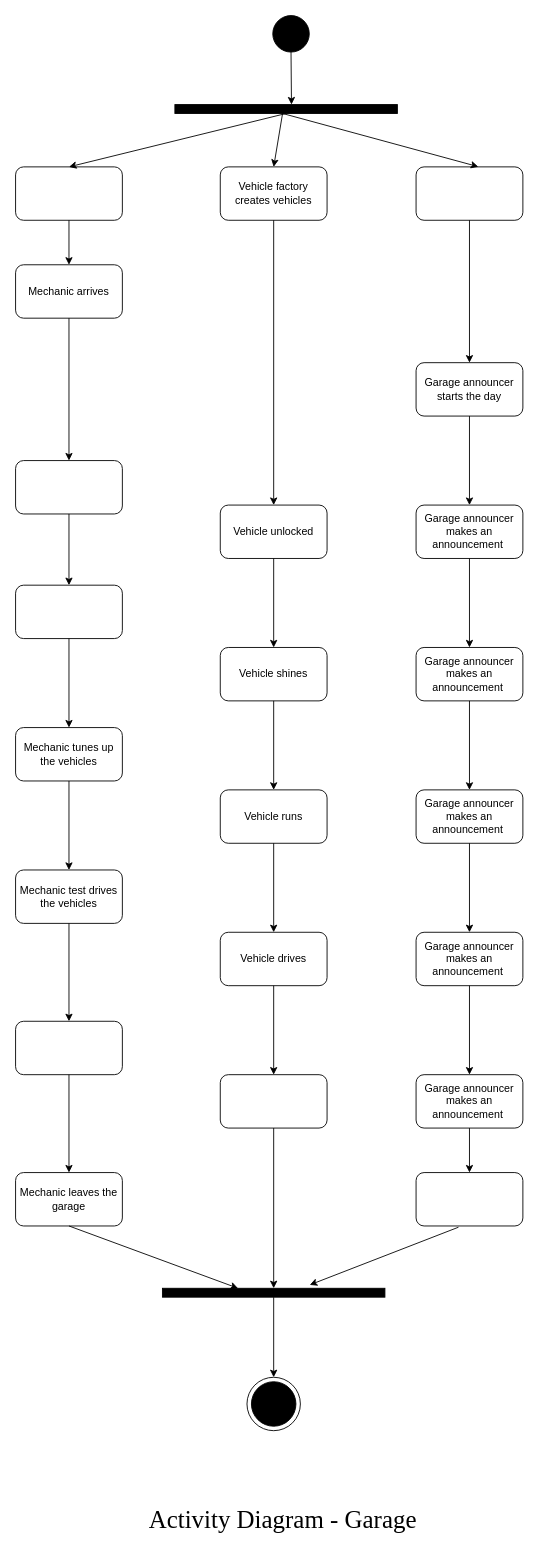
This 538x1550 diagram has some shape labels left out. The shapes that lost their labels are listed below. From the top down, each one's centre as x and y in pixels, then its label:
the point at 68,193: Garage opens
the point at 469,193: Clock starts
the point at 68,487: Mechanic unlocks the vehicles
the point at 68,611: Mechanic washes the vehicles
the point at 68,1047: Mechanic locks up the vehicles
the point at 273,1101: Vehicle locked
the point at 469,1199: Garage announcer closes for the day
